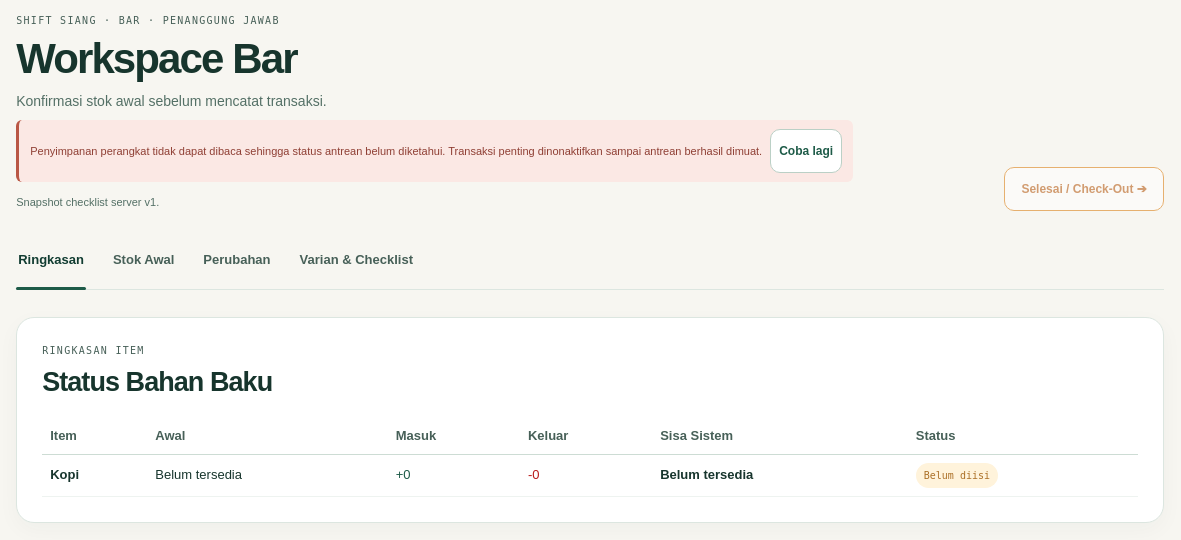
Test: E2: conflict queue is never deleted on failed refresh › shows a storage error with retry instead of endless loading when IndexedDB fails
Expected: the message shows "Penyimpanan perangkat", x1=30 y1=145 x2=762 y2=157
Click the button "Coba lagi" at (806, 151), box x1=770 y1=129 x2=842 y2=173
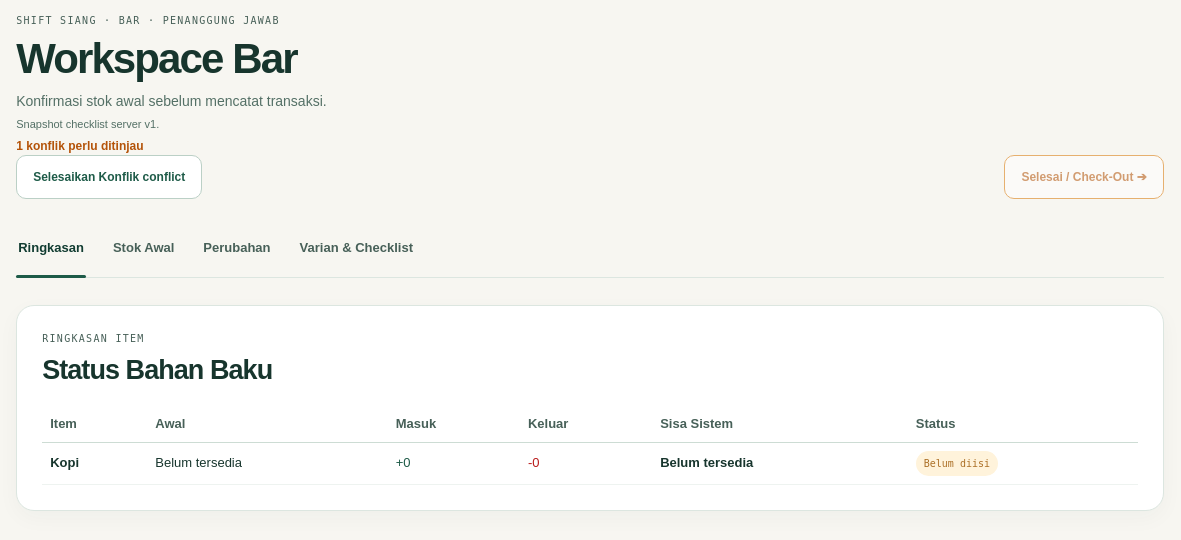
Now the text "Penyimpanan perangkat" is gone
